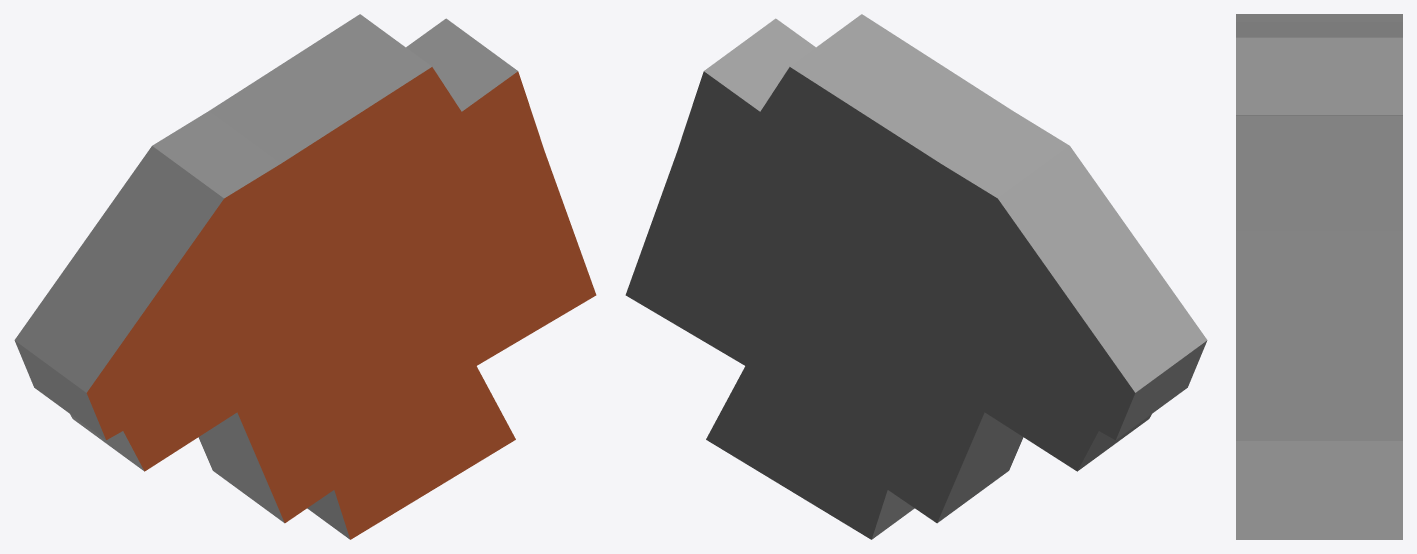
Rendered from construction_6975_assumed_A_Casa_h6m.obj.
3 renders of one model, left to right at view 1: azimuth 30°, elevation 25°; view 2: azimuth 150°, elevation 25°; view 3: azimuth 270°, elevation 25°, orthographic. The views are drawn at different scales.
Visible parts, largest first — view 1: construction_6975_assumed_A_Casa; view 2: construction_6975_assumed_A_Casa; view 3: construction_6975_assumed_A_Casa.
Part boxes in pixels (<box>): construction_6975_assumed_A_Casa: <box>14,14,596,539</box>; construction_6975_assumed_A_Casa: <box>625,14,1207,539</box>; construction_6975_assumed_A_Casa: <box>1236,14,1402,539</box>.
Bounding box in the file's own units: 24.5 × 20.81 × 6.
